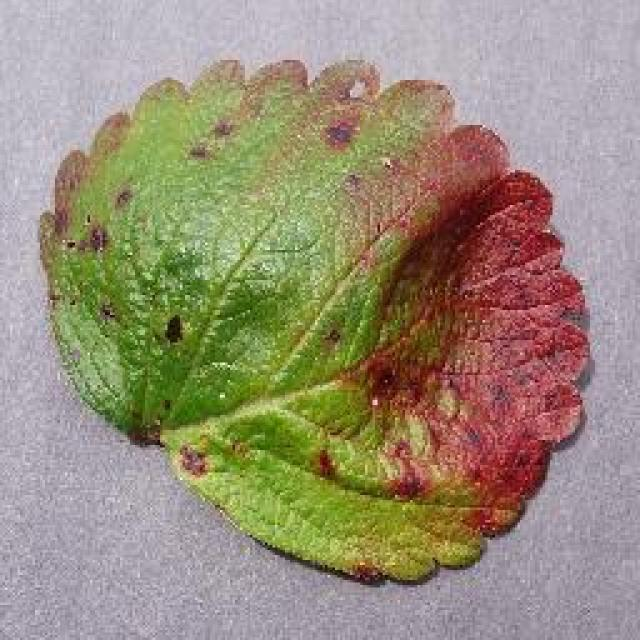Strawberry leaf scorch: (135, 107, 515, 440)
